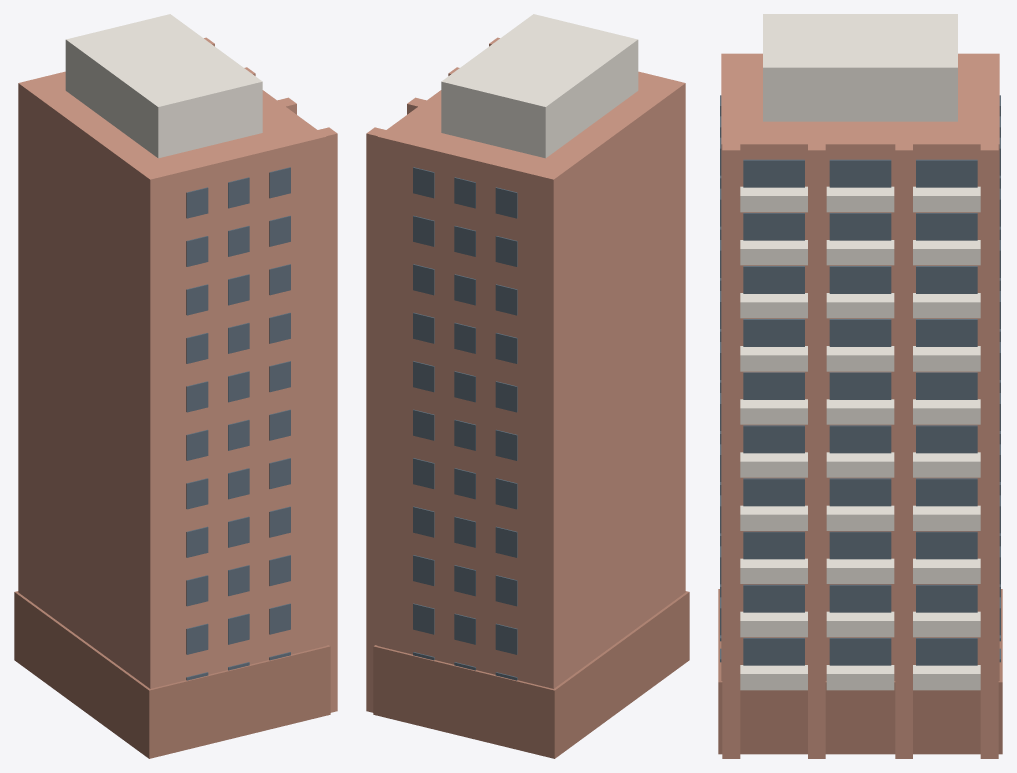
Rendered from rambla_building_16.glb.
The picture shows the model from 3 angles, left to right: view 1: azimuth 30°, elevation 25°; view 2: azimuth 150°, elevation 25°; view 3: azimuth 270°, elevation 25°; orthographic projection. The views are drawn at different scales.
Visible parts, largest first — view 1: RamblaBuilding_16; view 2: RamblaBuilding_16; view 3: RamblaBuilding_16.
Boxes of the visible parts, x1,y1,x2,y2 form: RamblaBuilding_16: (14, 14, 337, 758); RamblaBuilding_16: (366, 14, 689, 758); RamblaBuilding_16: (718, 14, 1002, 758).
Size of the model in its own units: 12.05 by 36.8 by 14.3.
